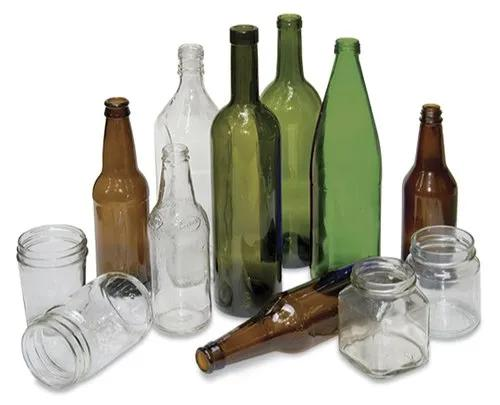glass: (266, 14, 382, 283), (211, 15, 283, 316), (16, 274, 152, 390), (149, 147, 214, 333), (199, 288, 338, 374), (336, 258, 431, 377), (153, 41, 217, 212), (92, 96, 150, 276), (406, 229, 481, 336), (16, 224, 89, 323), (400, 104, 458, 228)
